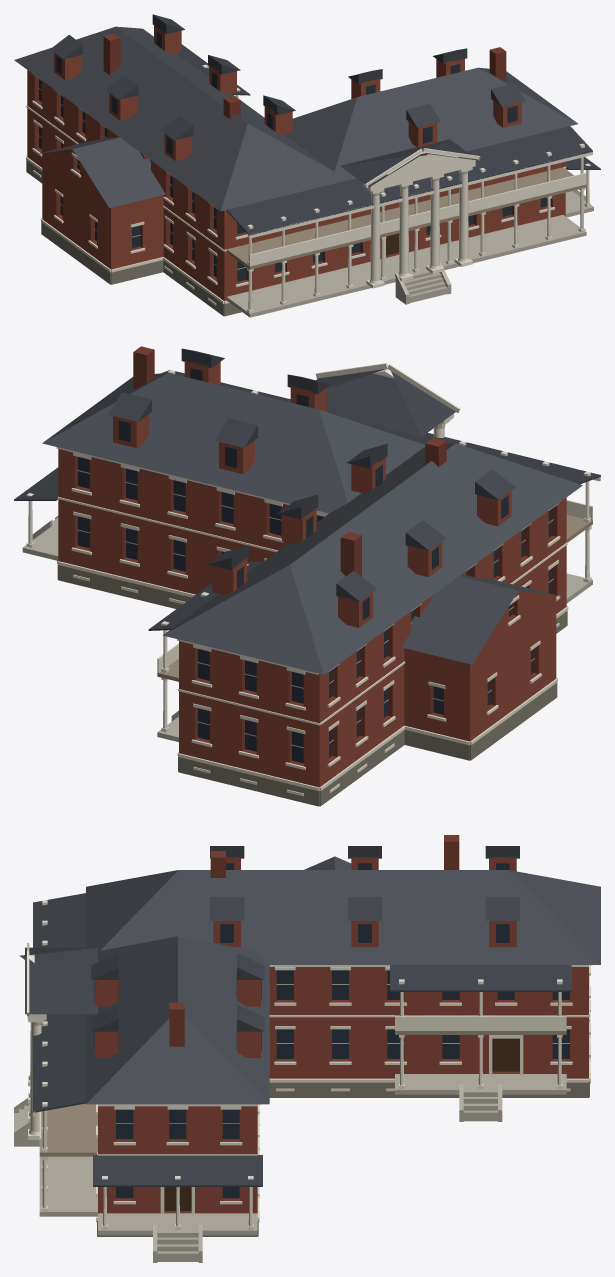
File: ch-methodist-orphanage-1913.glb
The picture shows the model from 3 angles, top to bottom: view 1: azimuth 30°, elevation 25°; view 2: azimuth 150°, elevation 25°; view 3: azimuth 270°, elevation 25°; orthographic projection. The views are drawn at different scales.
Visible parts, largest first — view 1: ch_roof, ch_brick, ch_trim, ch_roof2, ch_conc, ch_deck, ch_brick2, ch_glass, ch_base; view 2: ch_roof, ch_brick, ch_roof2, ch_trim, ch_glass, ch_base, ch_brick2, ch_conc, ch_deck; view 3: ch_roof, ch_brick, ch_roof2, ch_conc, ch_trim, ch_glass, ch_deck, ch_base, ch_brick2, ch_door.
Boxes of the visible parts, x1,y1,x2,y2 form: ch_roof: (14, 26, 577, 211); ch_brick: (27, 24, 565, 300); ch_trim: (26, 64, 592, 313); ch_roof2: (50, 14, 600, 235); ch_conc: (226, 190, 593, 317); ch_deck: (226, 167, 586, 269); ch_brick2: (34, 33, 552, 283); ch_glass: (39, 31, 547, 281); ch_base: (26, 160, 241, 316); ch_roof: (42, 373, 582, 674); ch_brick: (58, 360, 566, 787); ch_roof2: (14, 348, 600, 630); ch_trim: (26, 363, 600, 796); ch_glass: (78, 368, 551, 763); ch_base: (57, 565, 567, 806); ch_brick2: (75, 346, 557, 766); ch_conc: (22, 516, 592, 741); ch_deck: (157, 515, 592, 681); ch_roof: (86, 856, 600, 1104); ch_brick: (94, 857, 588, 1213); ch_roof2: (19, 846, 571, 1186); ch_conc: (14, 1074, 566, 1262); ch_trim: (27, 900, 592, 1229); ch_glass: (94, 863, 569, 1198); ch_deck: (39, 1015, 566, 1156); ch_base: (97, 1082, 589, 1236); ch_brick2: (116, 835, 569, 1213); ch_door: (164, 1038, 519, 1210).
Bounding box in the file's own units: 36.95 × 13.43 × 34.2.
